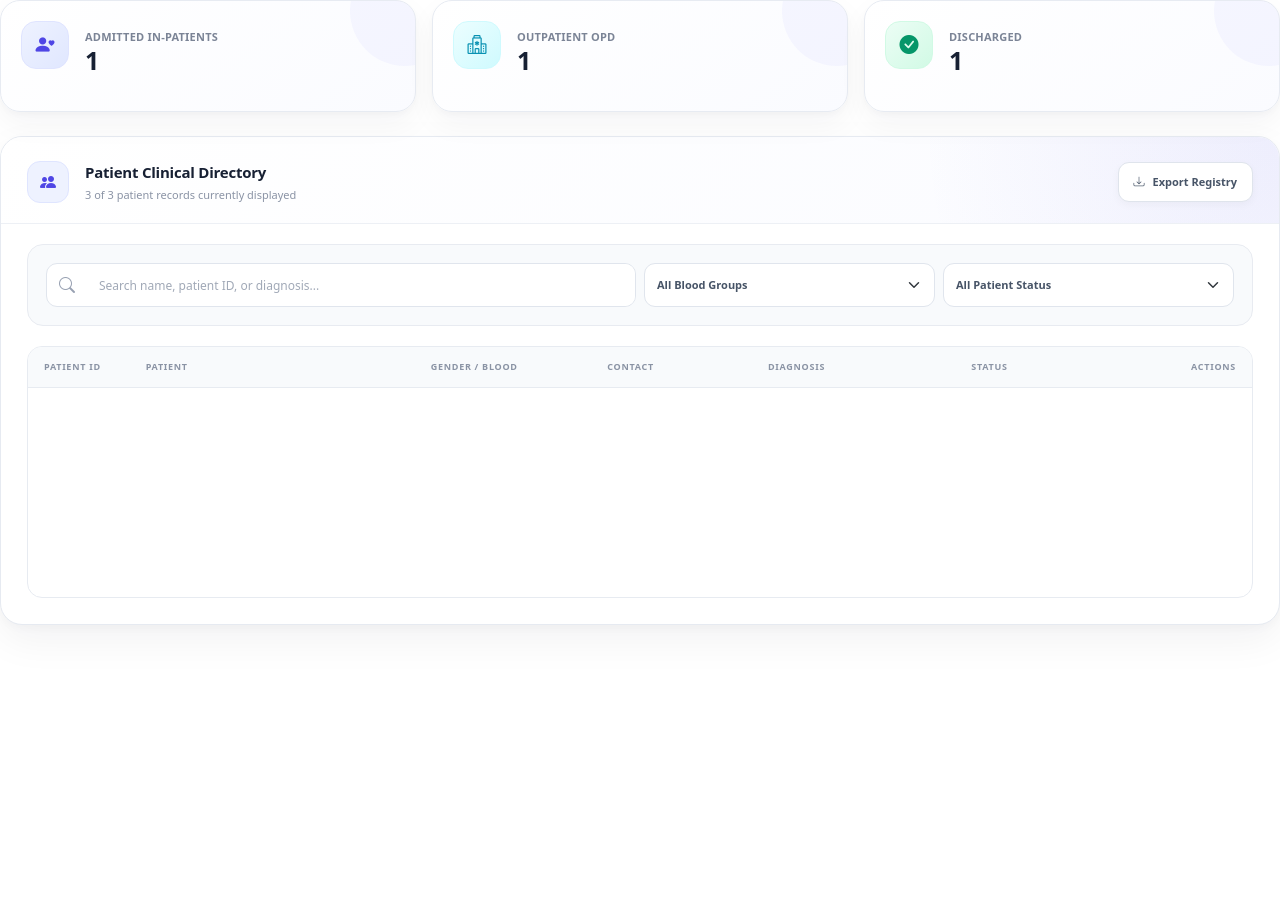
PatientList Integration Suite › filters patients interactively via search input
The width and height of the screenshot is (1280, 900).
In the field with placeholder "Search name, patient ID, or diagnosis...": (361, 285) [87,264,635,306], type "Diya"
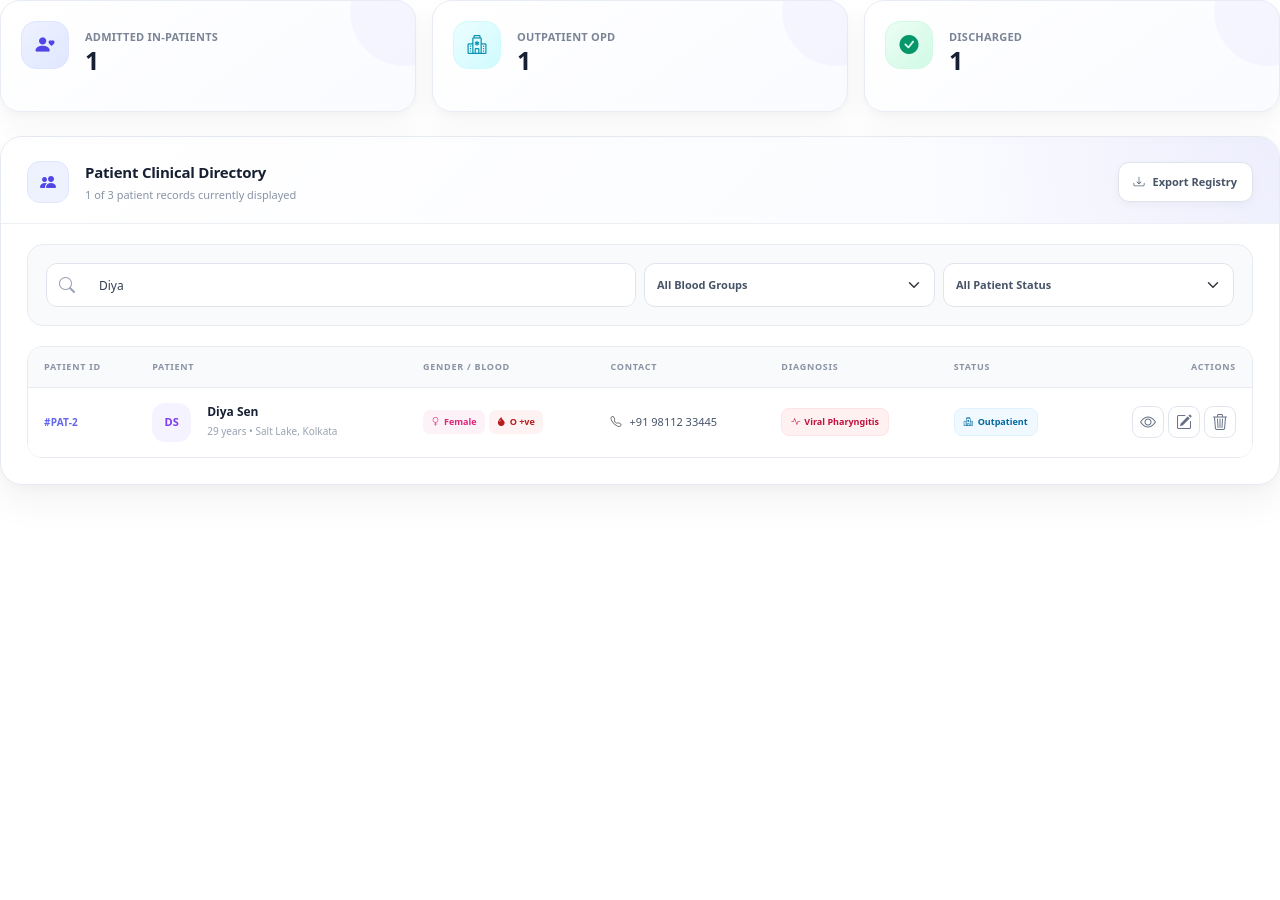
Expected: the text "Diya Sen" is shown, [207,403,258,420]
